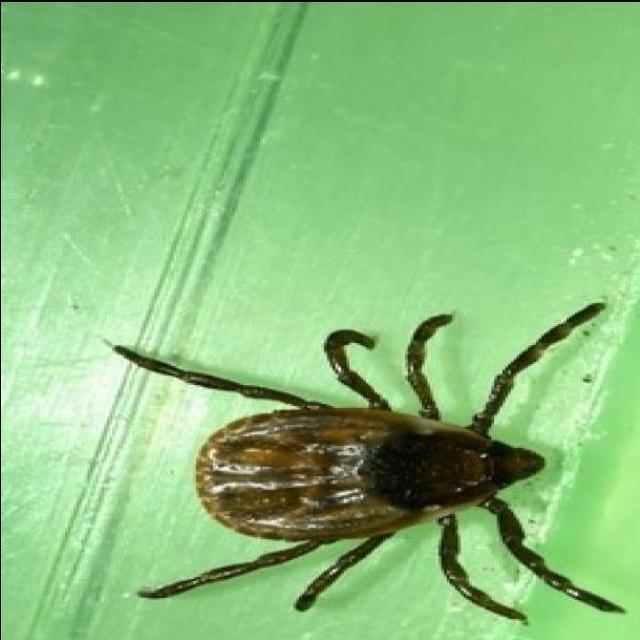Rhipicephalus Sanguineus-F-Fed: (109, 297, 630, 623)
